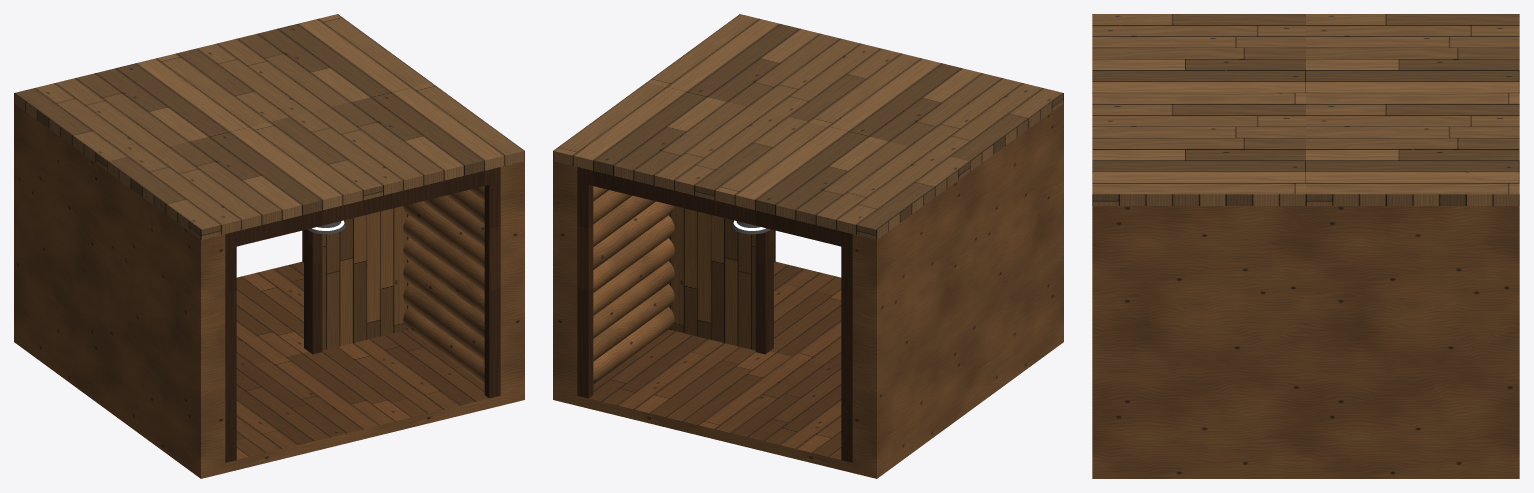
File: Corridor_Cabin_Door.glb
The picture shows the model from 3 angles, left to right: view 1: azimuth 30°, elevation 25°; view 2: azimuth 150°, elevation 25°; view 3: azimuth 270°, elevation 25°; orthographic projection. The views are drawn at different scales.
Parts seen in each view (by area): view 1: Corridor_Cabin_Door, Corridor_Cabin_Door_Ceiling; view 2: Corridor_Cabin_Door, Corridor_Cabin_Door_Ceiling; view 3: Corridor_Cabin_Door, Corridor_Cabin_Door_Ceiling.
Part boxes in pixels (x1,y1,x2,y2): Corridor_Cabin_Door: (14, 103, 524, 478); Corridor_Cabin_Door_Ceiling: (14, 14, 524, 246); Corridor_Cabin_Door: (553, 103, 1063, 478); Corridor_Cabin_Door_Ceiling: (553, 14, 1063, 248); Corridor_Cabin_Door: (1092, 206, 1519, 478); Corridor_Cabin_Door_Ceiling: (1092, 14, 1519, 205).
Size of the model in its own units: 4 by 2.94 by 4.
Materials: 8 (6 with a texture image).
